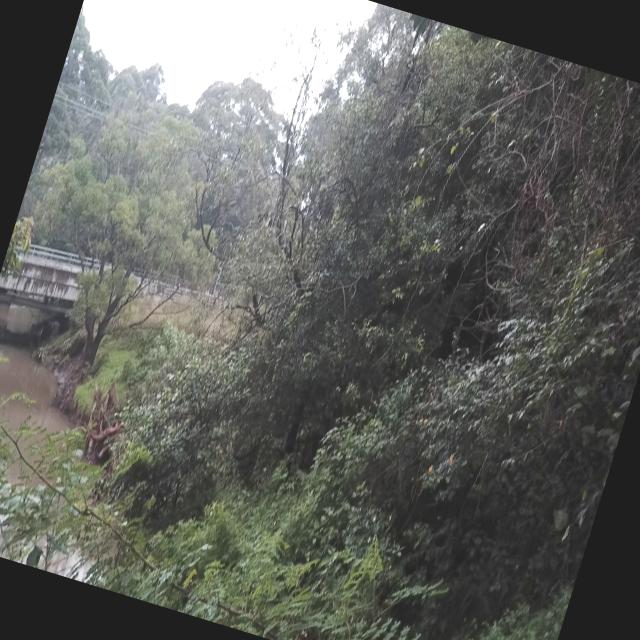Mysore-Thorn-Weed: (0, 359, 478, 640)
